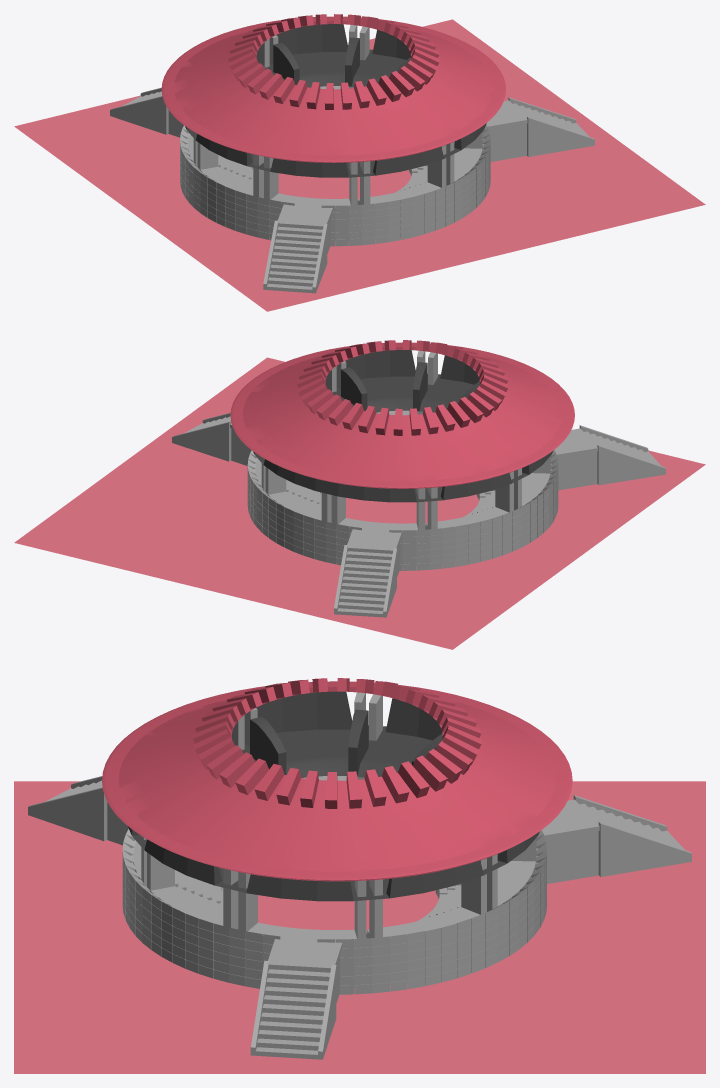
File: stadium_pink.fbx
3 renders of one model, top to bottom at view 1: azimuth 30°, elevation 25°; view 2: azimuth 150°, elevation 25°; view 3: azimuth 270°, elevation 25°, orthographic. The views are drawn at different scales.
Parts seen in each view (by area): view 1: ten_ten2, Cylinder001, Cylinder002, Box001, LTypeStair002, Box003, LTypeStair003, Box002, Box007, LTypeStair001, Box004; view 2: ten_ten2, Cylinder001, Cylinder002, Box004, LTypeStair001, LTypeStair002, Box008, Box009, Box003, LTypeStair003, Box005; view 3: ten_ten2, Cylinder001, Cylinder002, Box005, LTypeStair003, LTypeStair001, Box007, Box006, Box008, LTypeStair002, Box001.
Part boxes in pixels (x1,y1,x2,y2): ten_ten2: [14, 19, 705, 311]; Cylinder001: [161, 14, 505, 162]; Cylinder002: [185, 24, 486, 177]; Box001: [357, 145, 454, 245]; LTypeStair002: [263, 204, 332, 293]; Box003: [189, 142, 263, 237]; LTypeStair003: [486, 97, 594, 161]; Box002: [257, 156, 362, 246]; Box007: [395, 132, 490, 222]; LTypeStair001: [110, 87, 183, 137]; Box004: [180, 125, 253, 202]; ten_ten2: [14, 357, 705, 649]; Cylinder001: [230, 340, 574, 488]; Cylinder002: [253, 350, 552, 502]; Box004: [425, 471, 521, 569]; LTypeStair001: [334, 529, 401, 617]; LTypeStair002: [554, 425, 665, 490]; Box008: [257, 467, 331, 561]; Box009: [325, 488, 429, 570]; Box003: [464, 456, 558, 547]; LTypeStair003: [172, 412, 251, 465]; Box005: [247, 450, 321, 527]; ten_ten2: [14, 781, 705, 1073]; Cylinder001: [102, 678, 572, 881]; Cylinder002: [128, 691, 539, 901]; Box005: [366, 858, 497, 993]; LTypeStair003: [250, 938, 342, 1059]; LTypeStair001: [542, 795, 691, 883]; Box007: [135, 852, 238, 982]; Box006: [229, 872, 372, 994]; Box008: [417, 838, 546, 962]; LTypeStair002: [28, 776, 128, 845]; Box001: [122, 829, 223, 935].
Bounding box in the file's own units: 10 × 3.1 × 10.
